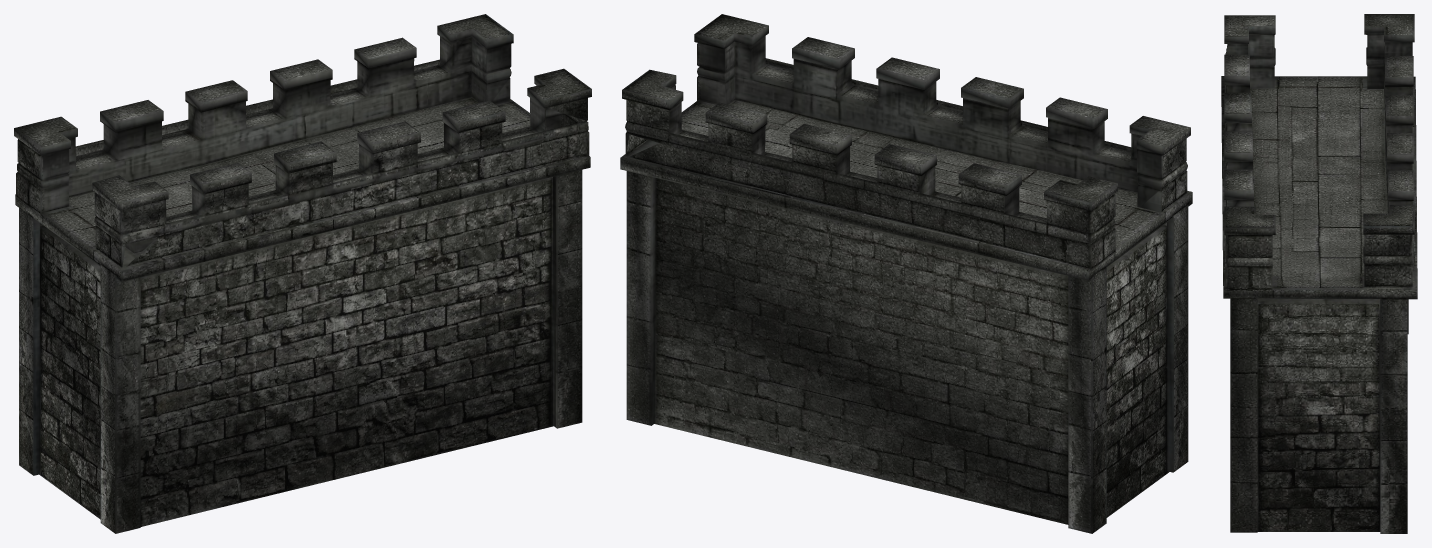
Rendered from castle+wall+3d+model.glb.
3 views of the same model, side by side, from view 1: azimuth 30°, elevation 25°; view 2: azimuth 150°, elevation 25°; view 3: azimuth 270°, elevation 25° (orthographic). The views are drawn at different scales.
Visible parts, largest first — view 1: tripo_node_79ed6bda-670b-4866-a1b3-c3d8a11d1c8b; view 2: tripo_node_79ed6bda-670b-4866-a1b3-c3d8a11d1c8b; view 3: tripo_node_79ed6bda-670b-4866-a1b3-c3d8a11d1c8b.
Boxes of the visible parts, left/top/right/bottom form: tripo_node_79ed6bda-670b-4866-a1b3-c3d8a11d1c8b: left=14, top=14, right=591, bottom=533; tripo_node_79ed6bda-670b-4866-a1b3-c3d8a11d1c8b: left=620, top=14, right=1192, bottom=533; tripo_node_79ed6bda-670b-4866-a1b3-c3d8a11d1c8b: left=1221, top=14, right=1417, bottom=533.
Bounding box in the file's own units: 0.998 × 0.6777 × 0.3887.
Materials: 1 (1 with a texture image).
